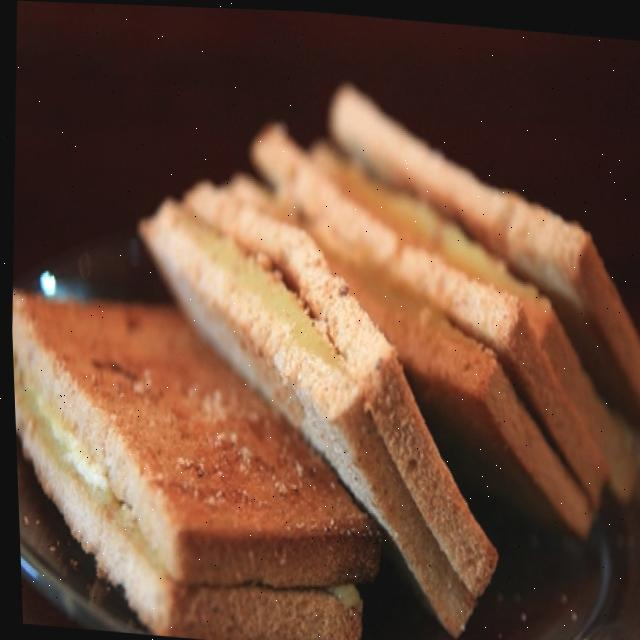面包点心: (1, 51, 640, 640)
